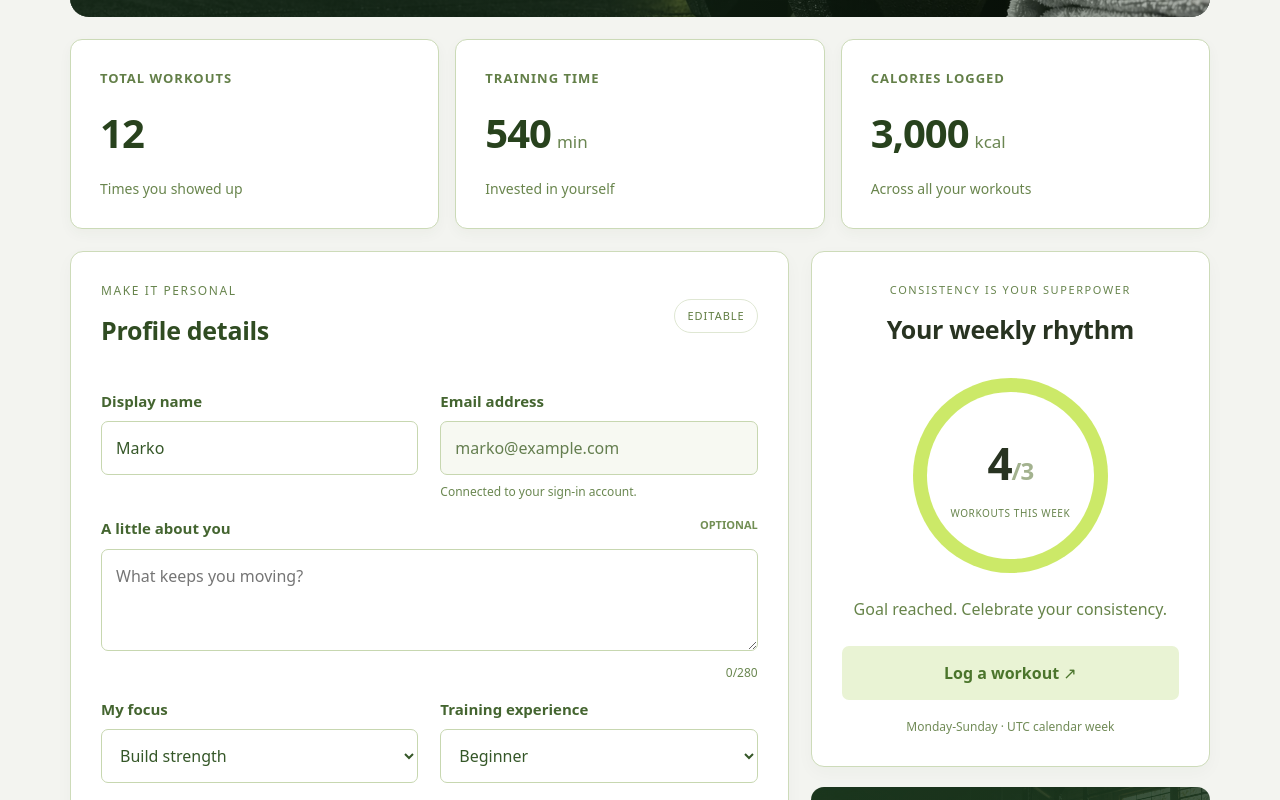
it: Personal profile › sends only editable fields and confirms the persisted profile
(page scrolled)
Replace the text in the field with id "display-name" with "New name" at (260, 448), box top-left (101, 421), bottom-right (418, 475)
(page scrolled)
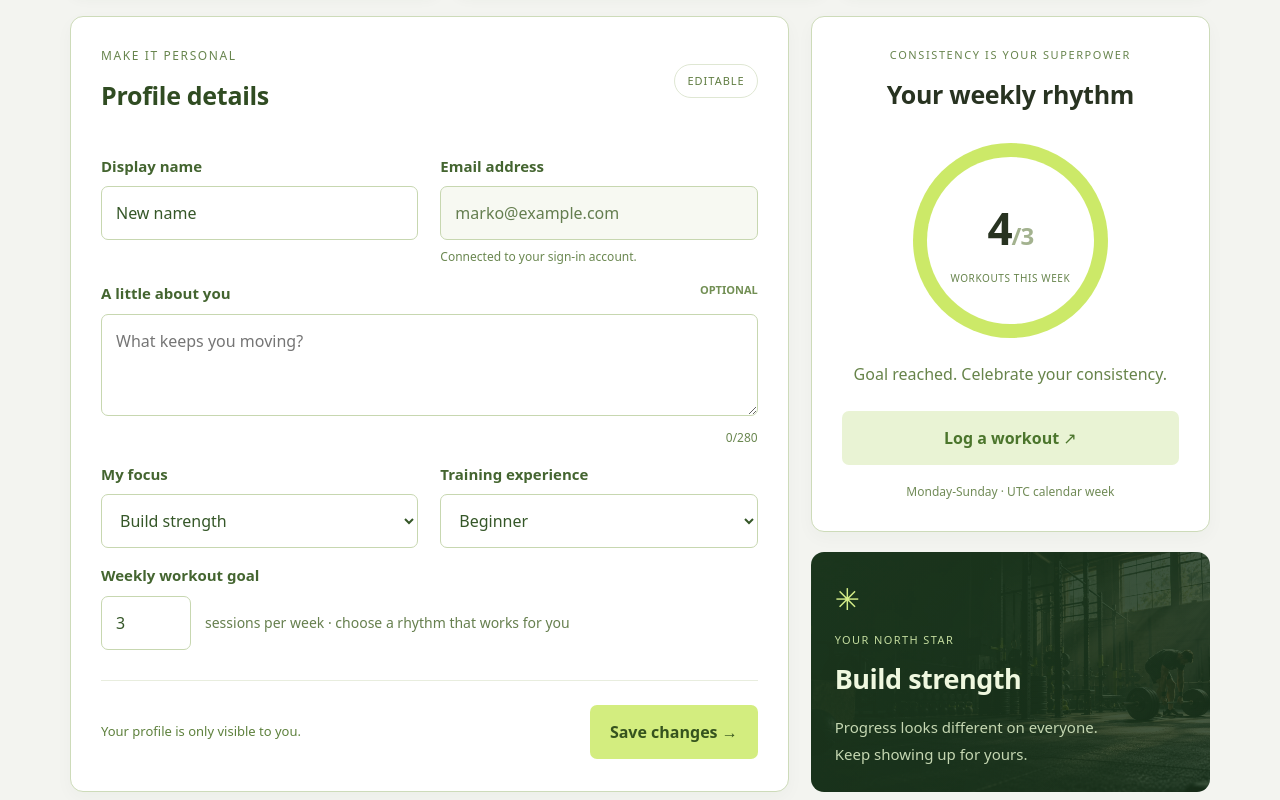
Submit the form, box top-left (101, 138), bottom-right (758, 758)
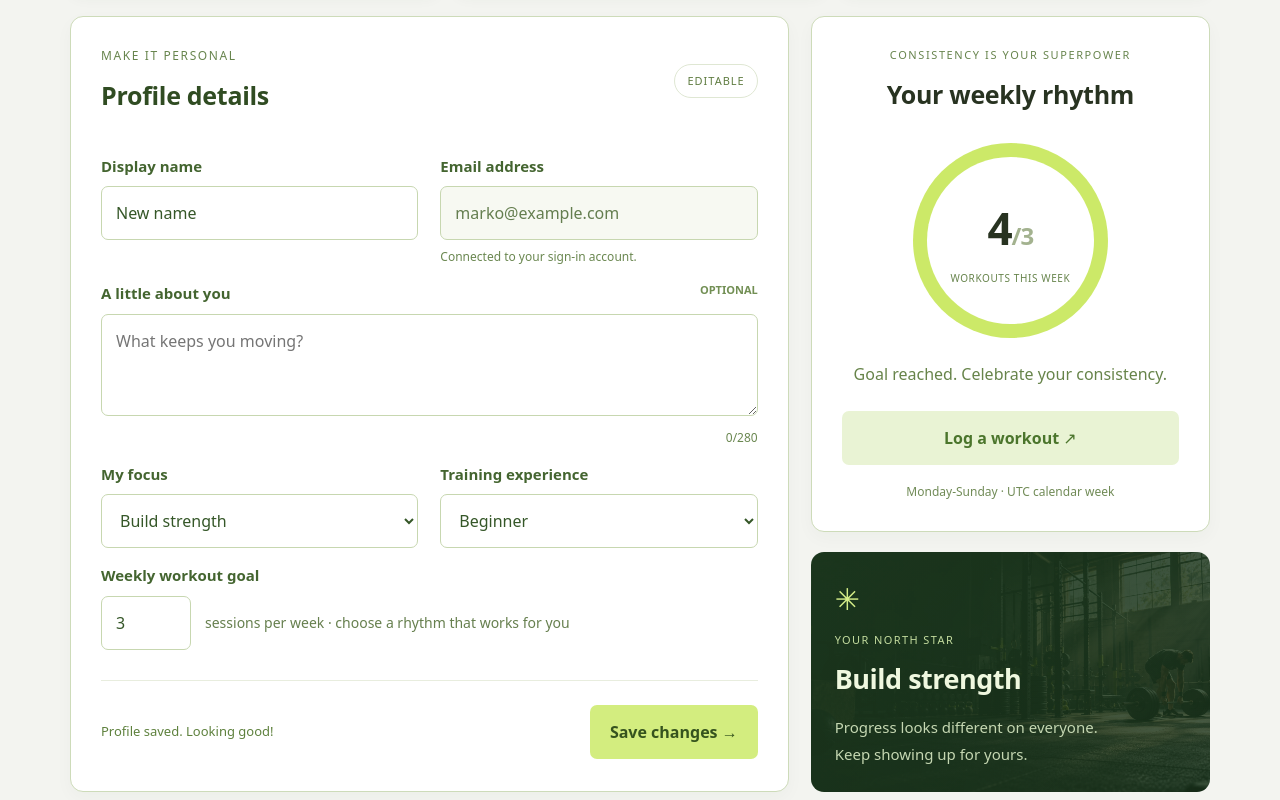
Expected: the message with class "save-note" shows "Profile saved", top-left (101, 722), bottom-right (274, 740)
